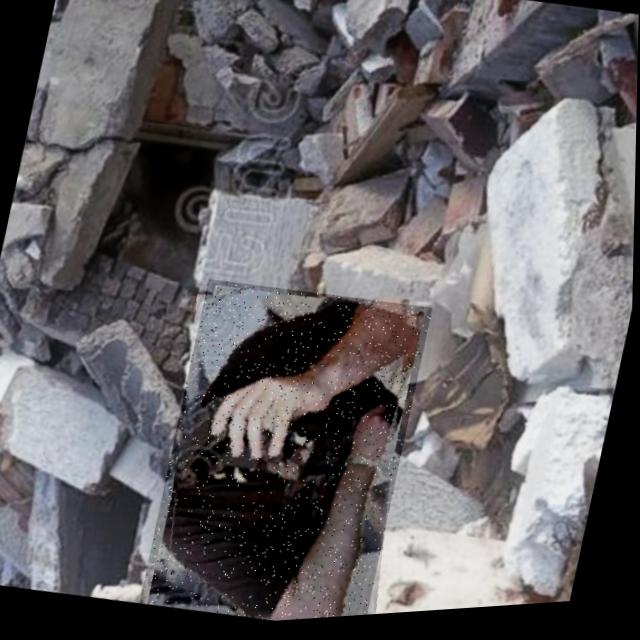Person in Rubble: (142, 269, 435, 632)
